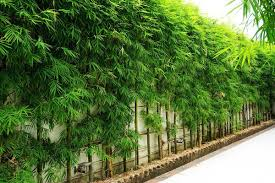bamboo: (2, 3, 114, 174), (123, 3, 182, 152), (189, 11, 231, 135), (235, 36, 274, 127)
